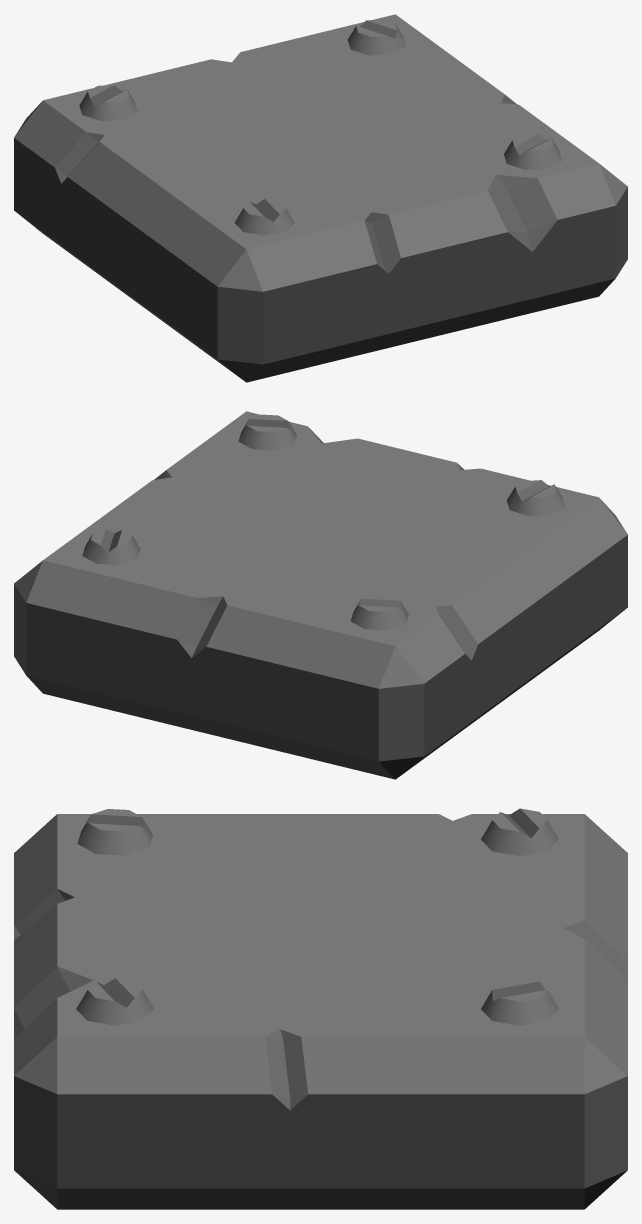
Rendered from m_kub_metalOld_floorPlate.FBX.
3 renders of one model, top to bottom at view 1: azimuth 30°, elevation 25°; view 2: azimuth 150°, elevation 25°; view 3: azimuth 270°, elevation 25°, orthographic. The views are drawn at different scales.
Parts seen in each view (by area): view 1: m_kub_metalOld_floorPlate; view 2: m_kub_metalOld_floorPlate; view 3: m_kub_metalOld_floorPlate.
Part boxes in pixels (<box>): m_kub_metalOld_floorPlate: <box>14,14,627,382</box>; m_kub_metalOld_floorPlate: <box>14,411,627,779</box>; m_kub_metalOld_floorPlate: <box>14,808,627,1209</box>.
Bounding box in the file's own units: 2.18 × 0.7512 × 2.18.
